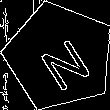N_NW: (28, 24, 91, 89)
